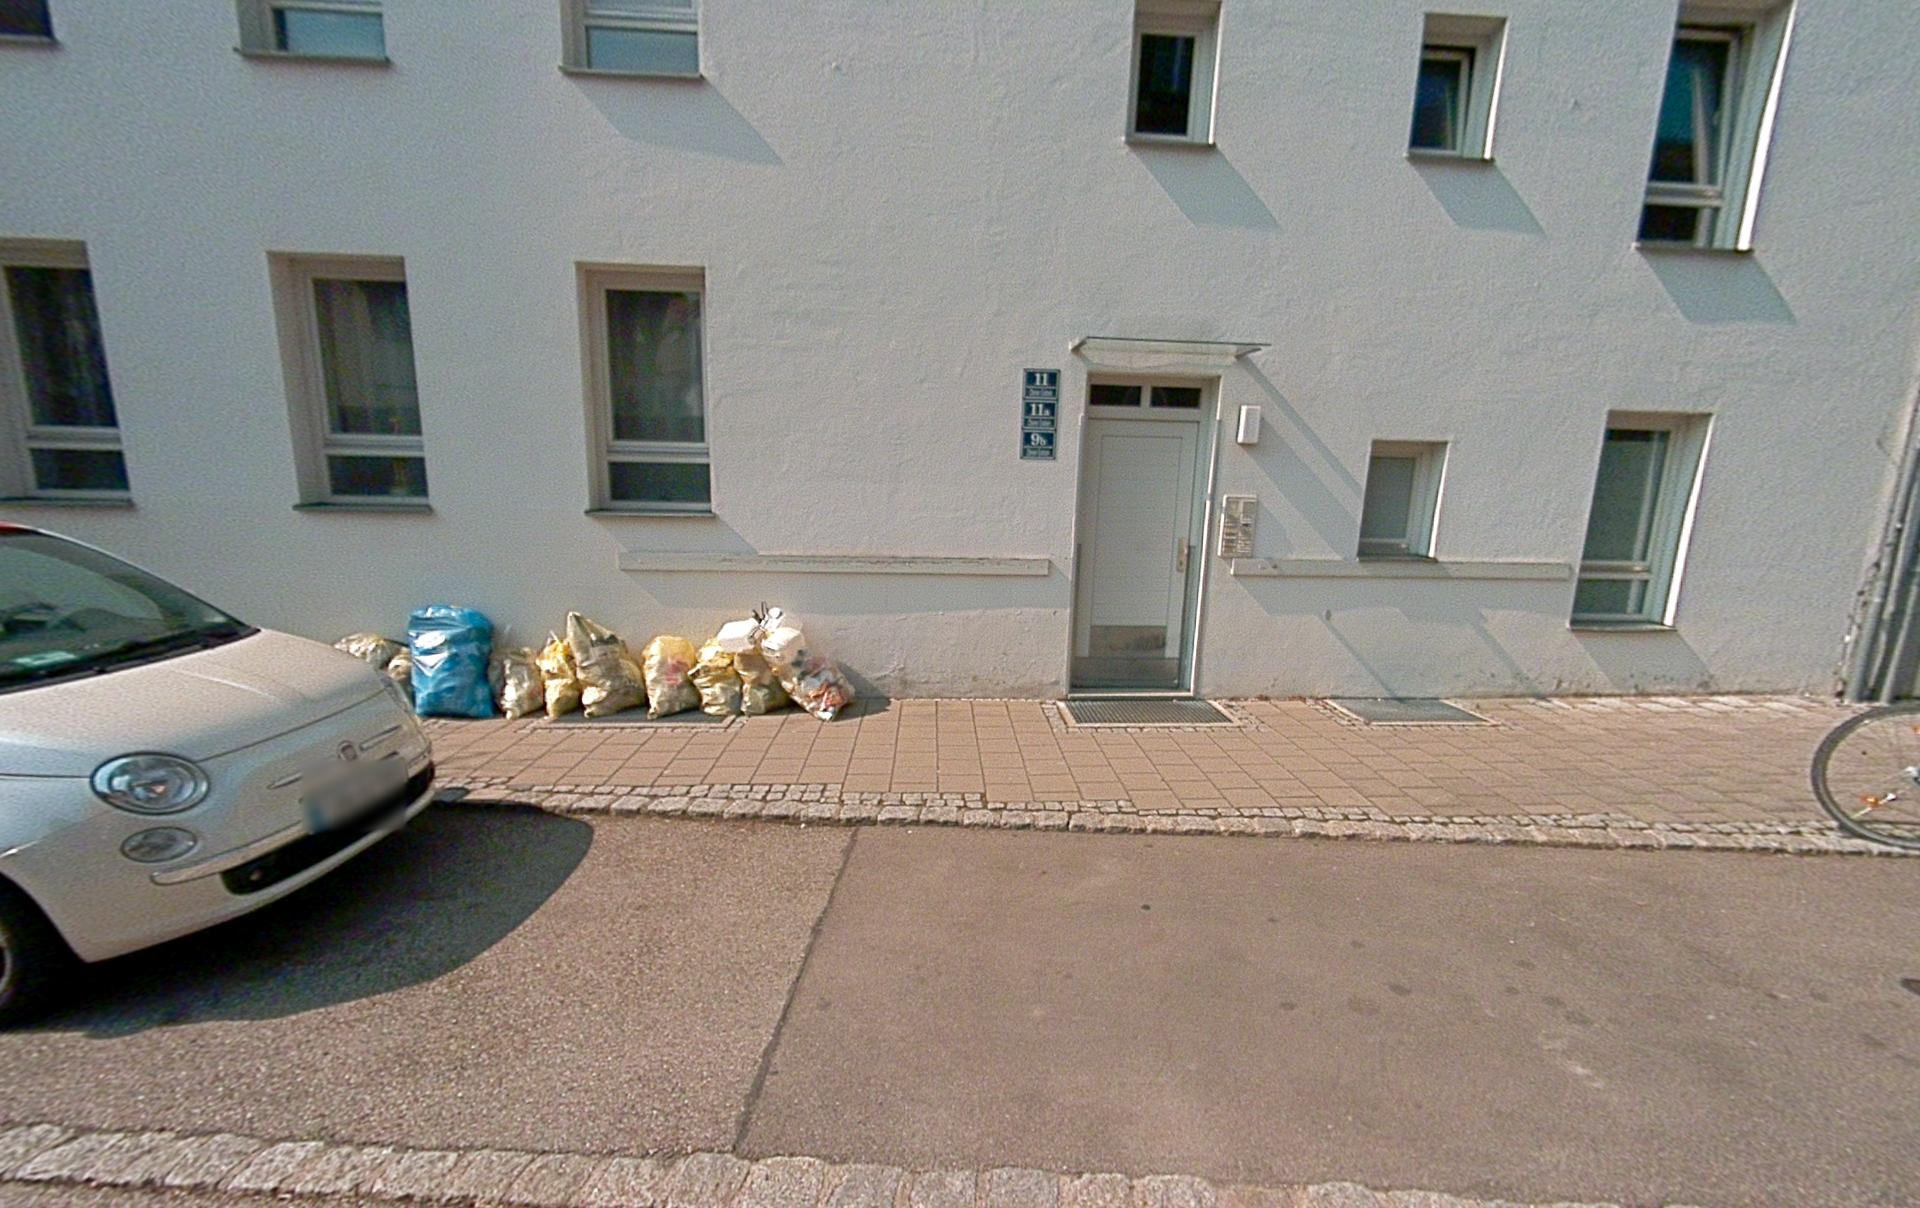car: (0, 520, 438, 1020)
traffic sign: (1020, 367, 1060, 461)
